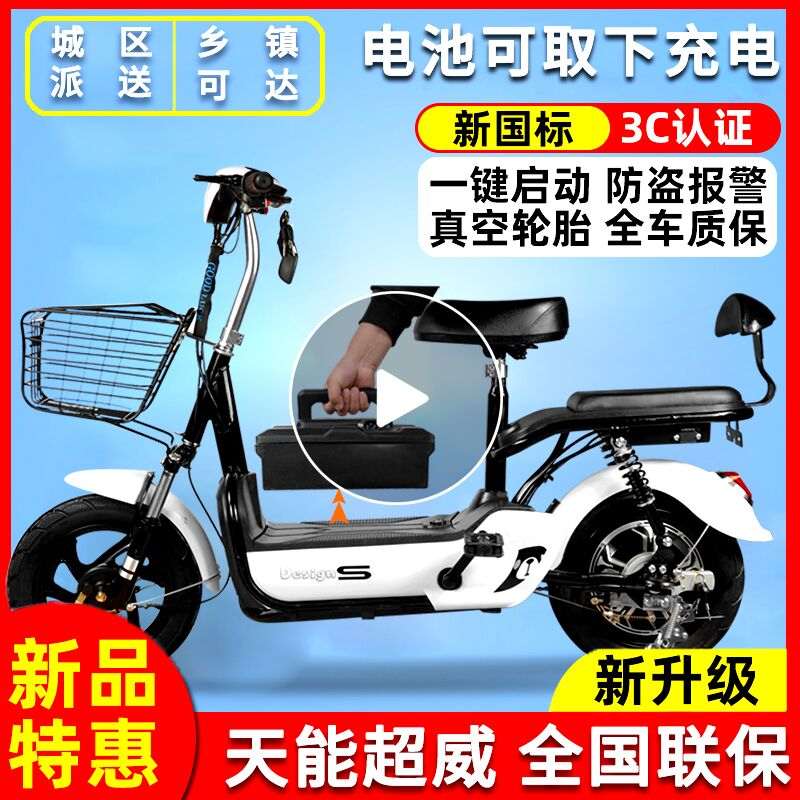电动车: (16, 154, 782, 668)
